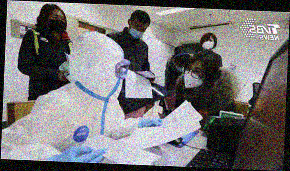with_mask: (183, 65, 203, 91), (47, 12, 68, 35), (129, 21, 146, 40), (201, 38, 216, 51)
